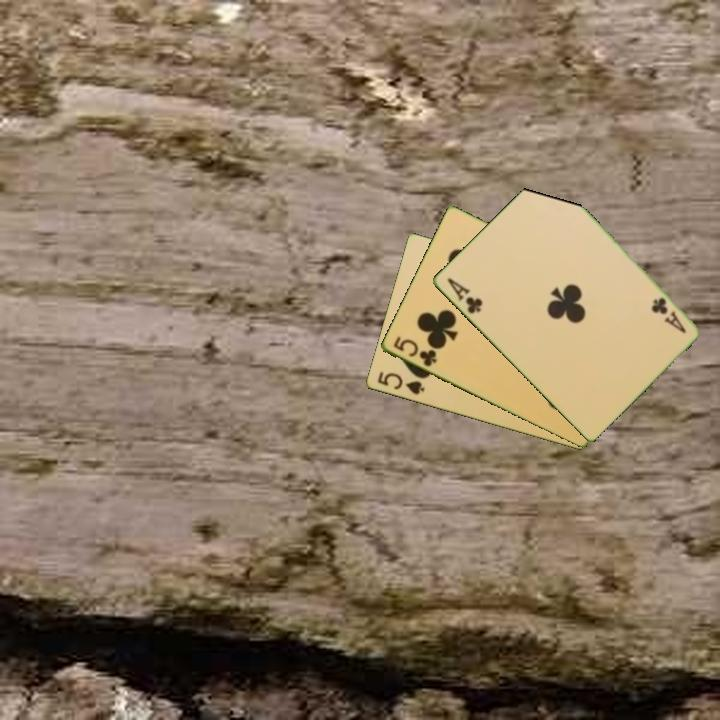5c: (389, 333, 439, 370)
5s: (374, 368, 427, 398)
Ac: (443, 274, 485, 317), (647, 294, 689, 336)
